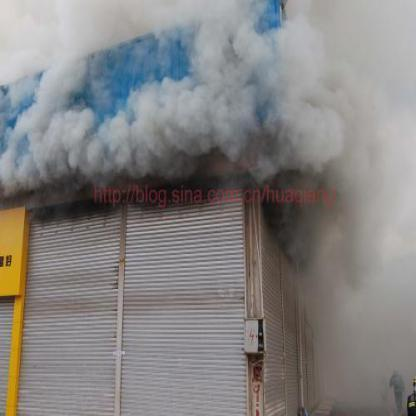smoke: (190, 0, 406, 84), (0, 0, 88, 193), (249, 82, 412, 183), (90, 86, 244, 181)
